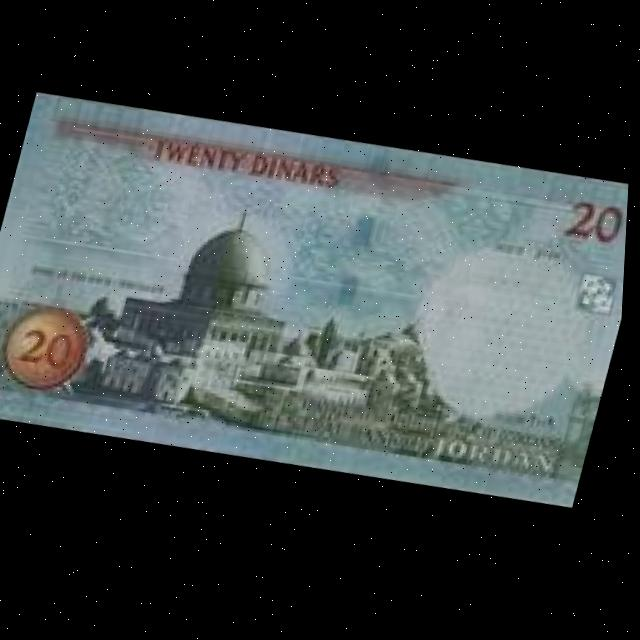banknote: (0, 59, 636, 537)
